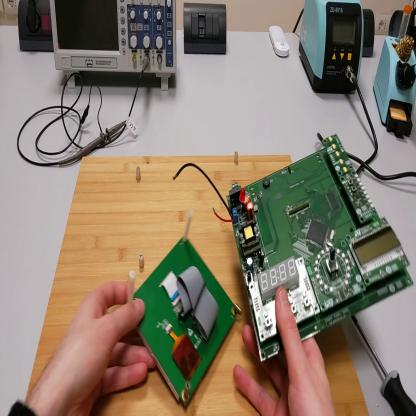hand: (40, 285, 158, 415), (234, 291, 336, 416)
low voltage board: (174, 133, 416, 363)
oscilloscope: (51, 2, 178, 95)
oscilloscope probe tip: (60, 121, 129, 169)
screwdriver-: (352, 318, 416, 413)
socket: (18, 1, 56, 53), (389, 6, 415, 38), (363, 9, 377, 57)
welder base: (373, 1, 416, 139)
welder probe tip: (404, 69, 415, 85)
welder station: (299, 3, 366, 95)
working area: (29, 156, 370, 415)
